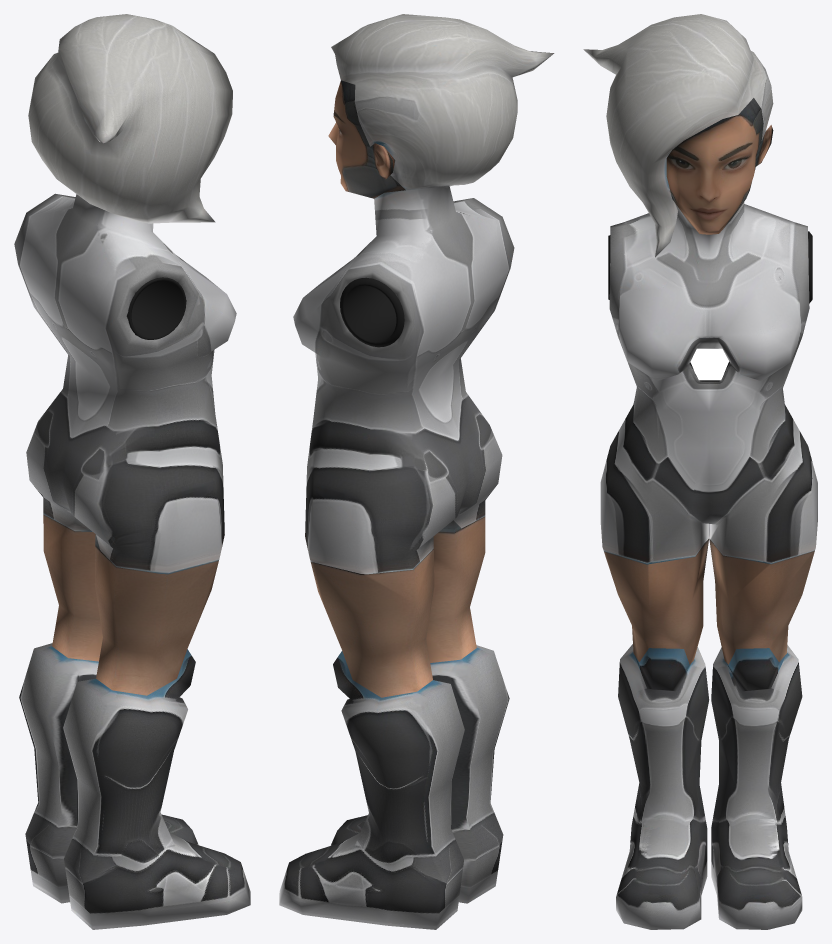
The model's file is fuzeball_womanTalia.glb.
3 renders of one model, left to right at view 1: azimuth 30°, elevation 25°; view 2: azimuth 150°, elevation 25°; view 3: azimuth 270°, elevation 25°, orthographic. The views are drawn at different scales.
Parts seen in each view (by area): view 1: woman_talia; view 2: woman_talia; view 3: woman_talia.
Part boxes in pixels (x1=…): woman_talia: x1=14, y1=14, x2=250, y2=929; woman_talia: x1=279, y1=14, x2=554, y2=929; woman_talia: x1=583, y1=14, x2=817, y2=929.
Bounding box in the file's own units: 2.65 × 11.78 × 2.94.
5 materials, 3 textured.
